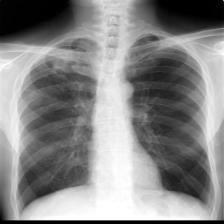tuberculosis: (11, 28, 220, 222)
